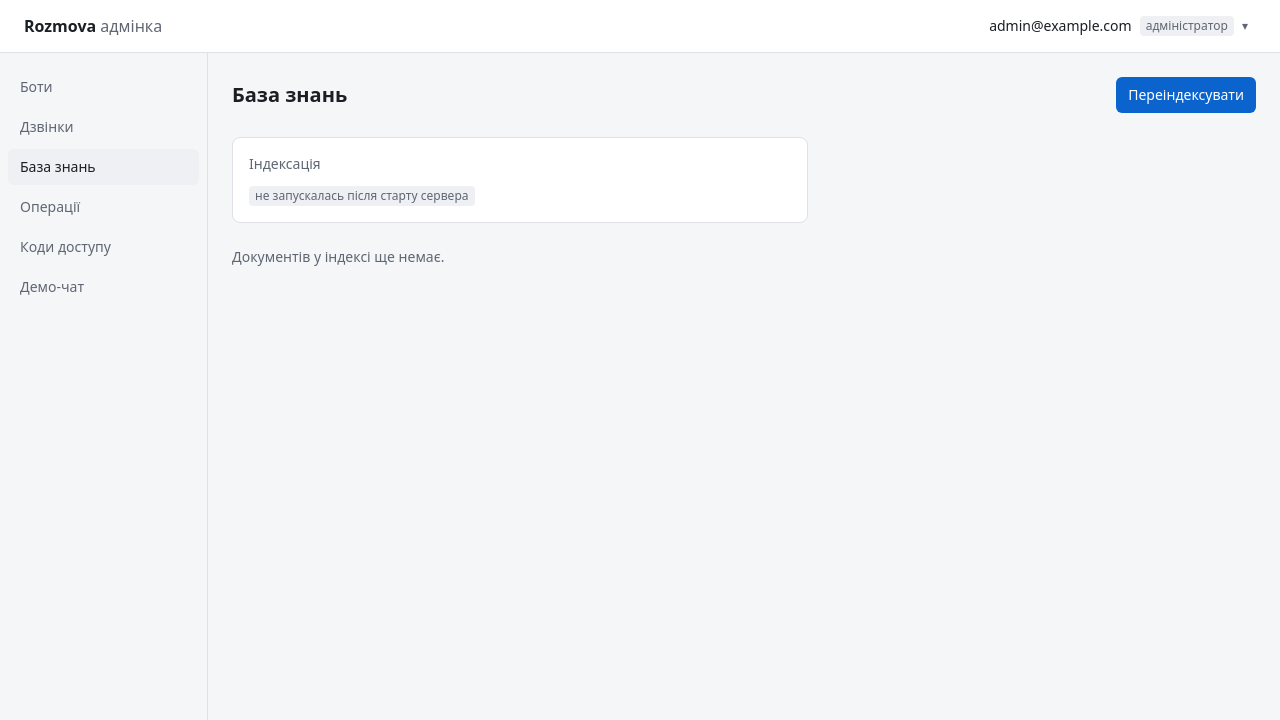
Test: reindex without an OpenAI key is explained
Click the button "Переіндексувати".
click(1186, 95)  # box [1116,77,1256,113]
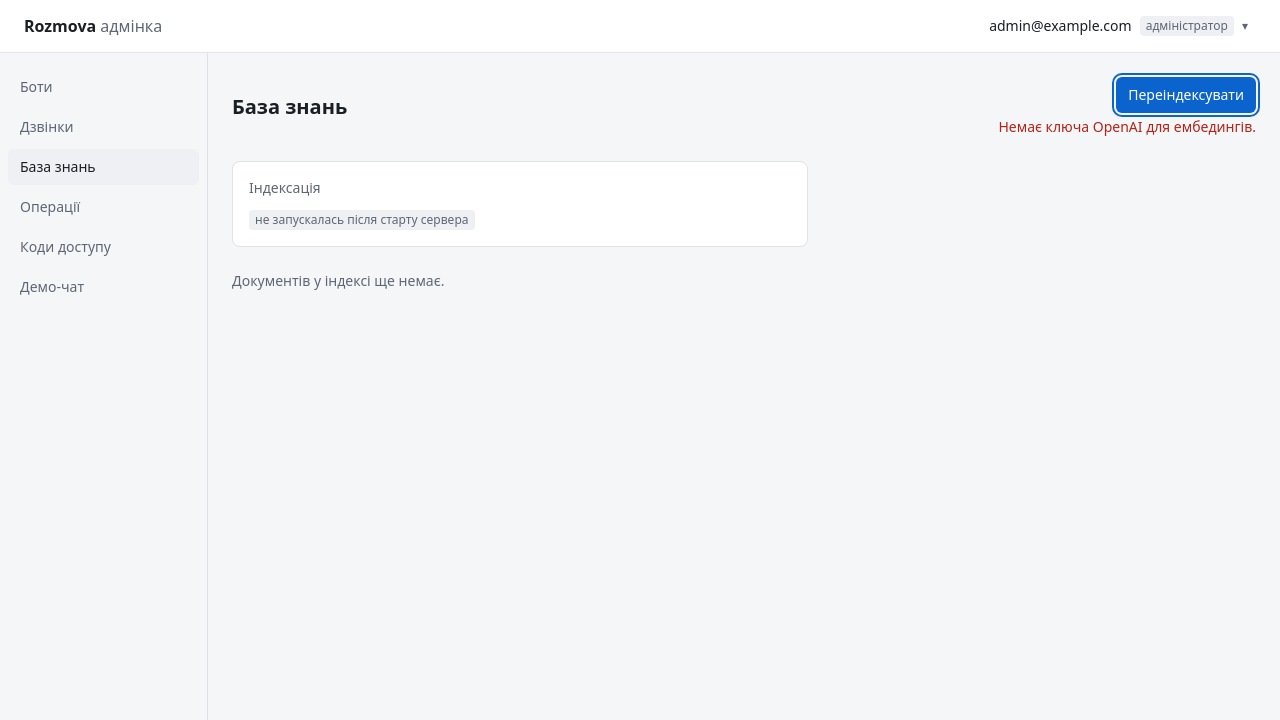
expect the message shows "Немає ключа OpenAI": met, box [998,117,1256,136]
